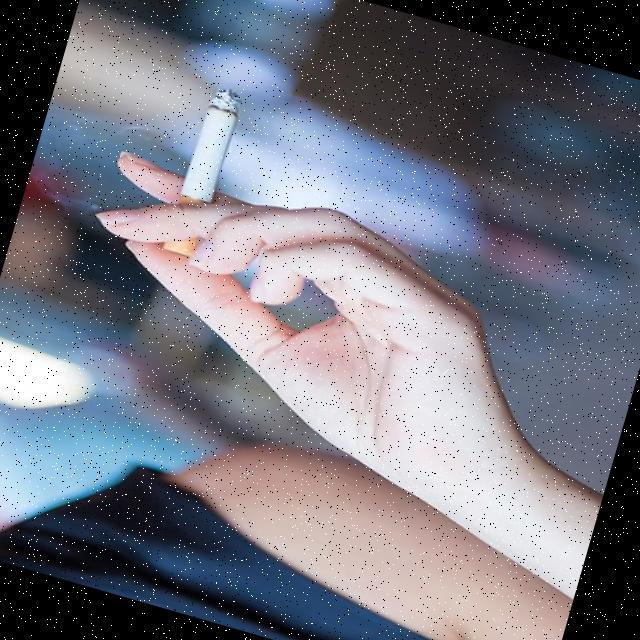cigarette: (154, 80, 250, 262)
